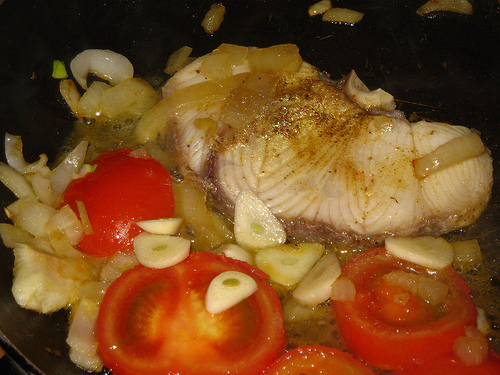fish: (162, 44, 496, 239)
